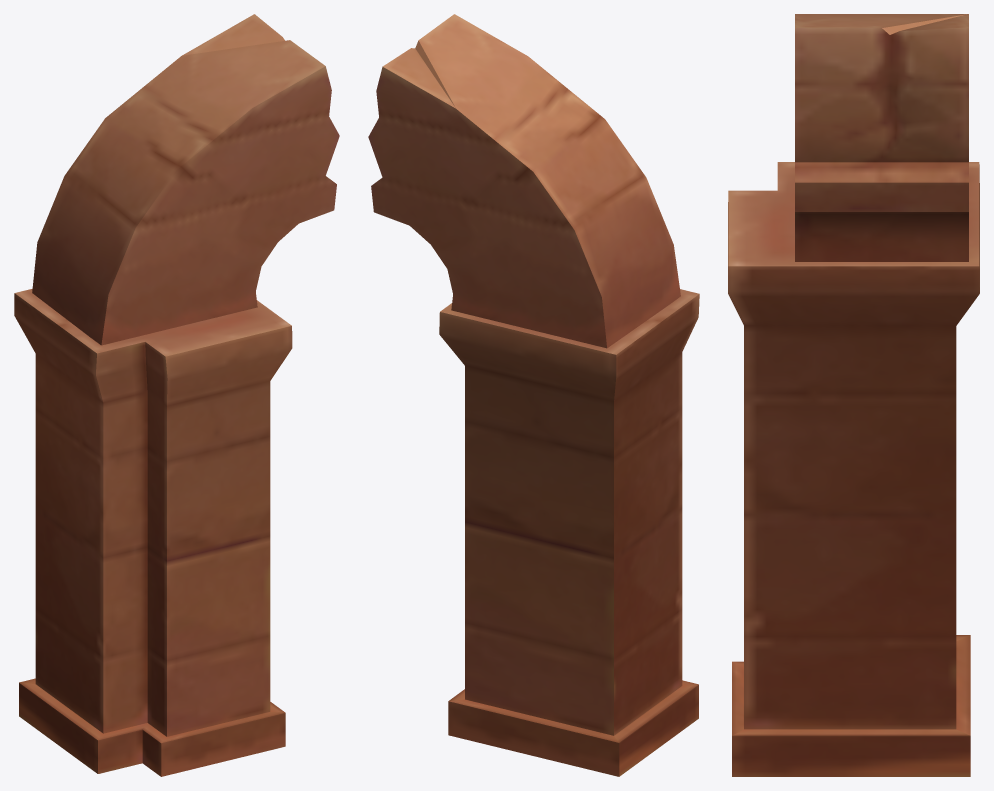
The model's file is Boss_10.FBX.
3 renders of one model, left to right at view 1: azimuth 30°, elevation 25°; view 2: azimuth 150°, elevation 25°; view 3: azimuth 270°, elevation 25°, orthographic. The views are drawn at different scales.
Parts seen in each view (by area): view 1: Boss_10; view 2: Boss_10; view 3: Boss_10.
Boxes of the visible parts, left/top/right/bottom form: Boss_10: left=14, top=14, right=339, bottom=776; Boss_10: left=368, top=14, right=699, bottom=776; Boss_10: left=728, top=14, right=979, bottom=776.
Bounding box in the file's own units: 3.49 × 8.62 × 2.5.
